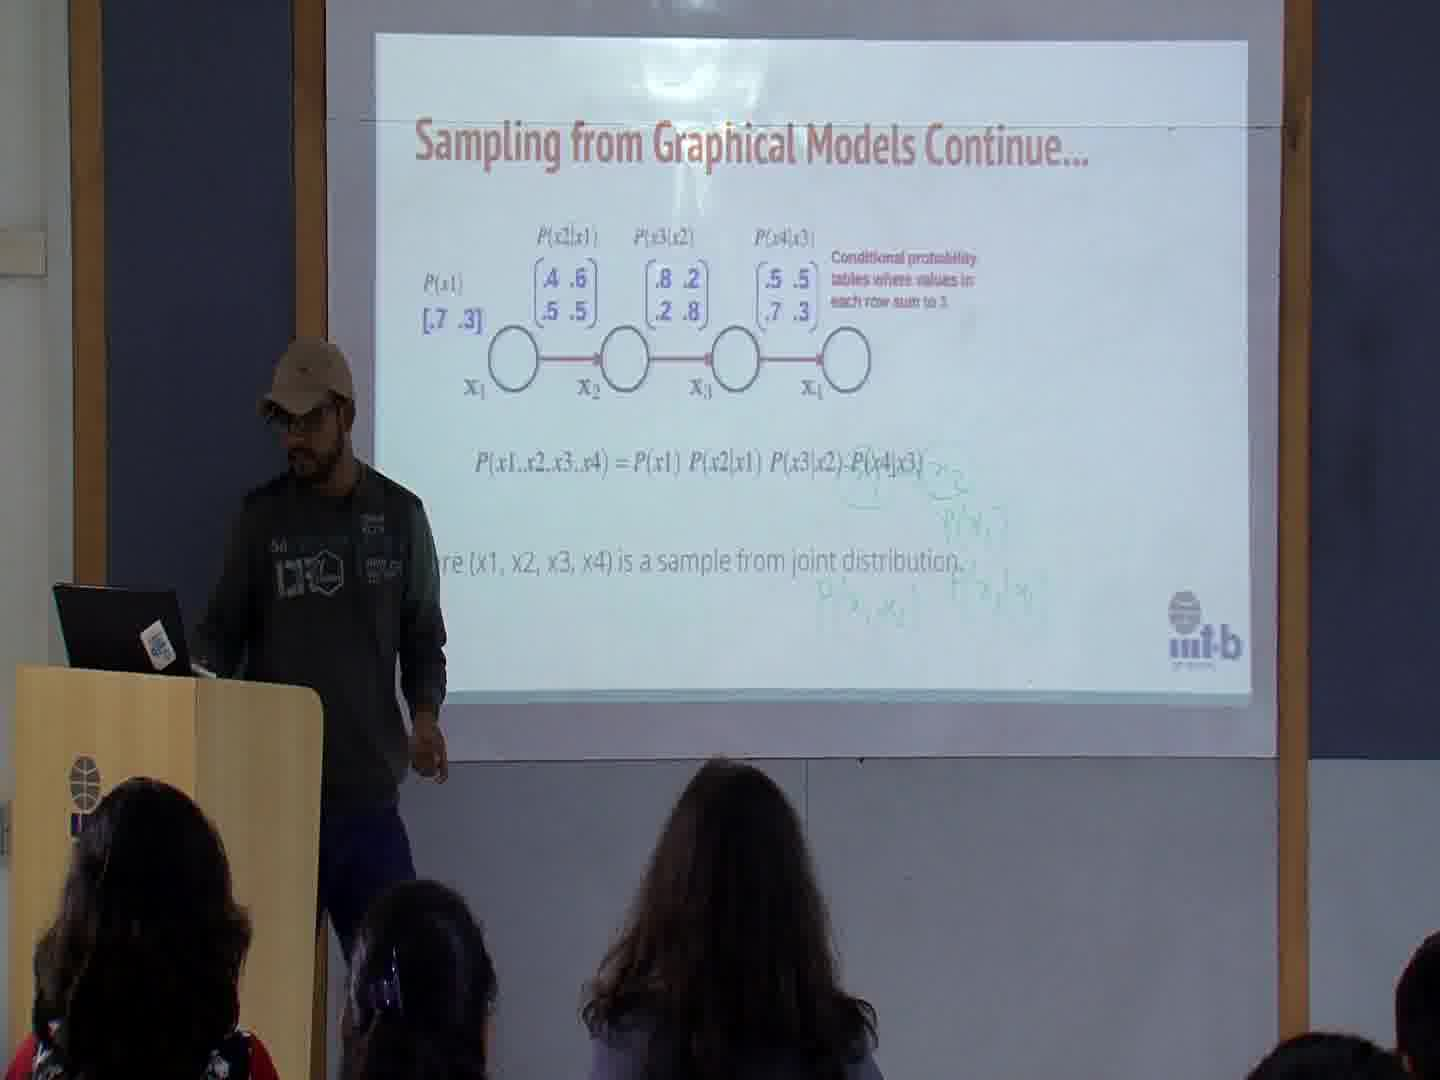eq: (471, 442, 927, 486)
